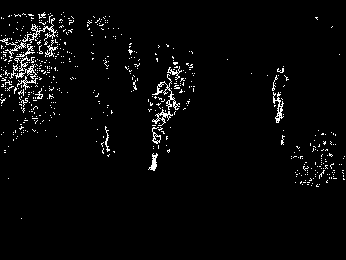person: (144, 77, 181, 177), (265, 62, 294, 133)
